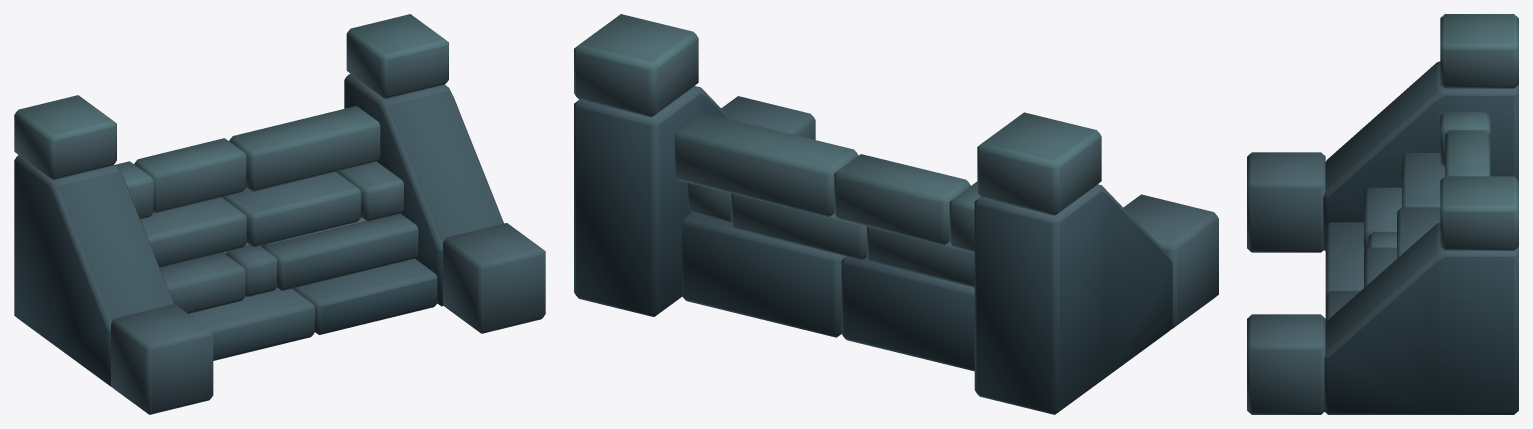
Rendered from stairs_set_01.fbx.
3 renders of one model, left to right at view 1: azimuth 30°, elevation 25°; view 2: azimuth 150°, elevation 25°; view 3: azimuth 270°, elevation 25°, orthographic. The views are drawn at different scales.
Visible parts, largest first — view 1: stairs_set_01; view 2: stairs_set_01; view 3: stairs_set_01.
Part boxes in pixels (box(x1,y1,x2,y2)): stairs_set_01: box(14, 14, 545, 414); stairs_set_01: box(574, 14, 1218, 414); stairs_set_01: box(1247, 14, 1518, 414).
Size of the model in its own units: 303 by 152 by 178.
